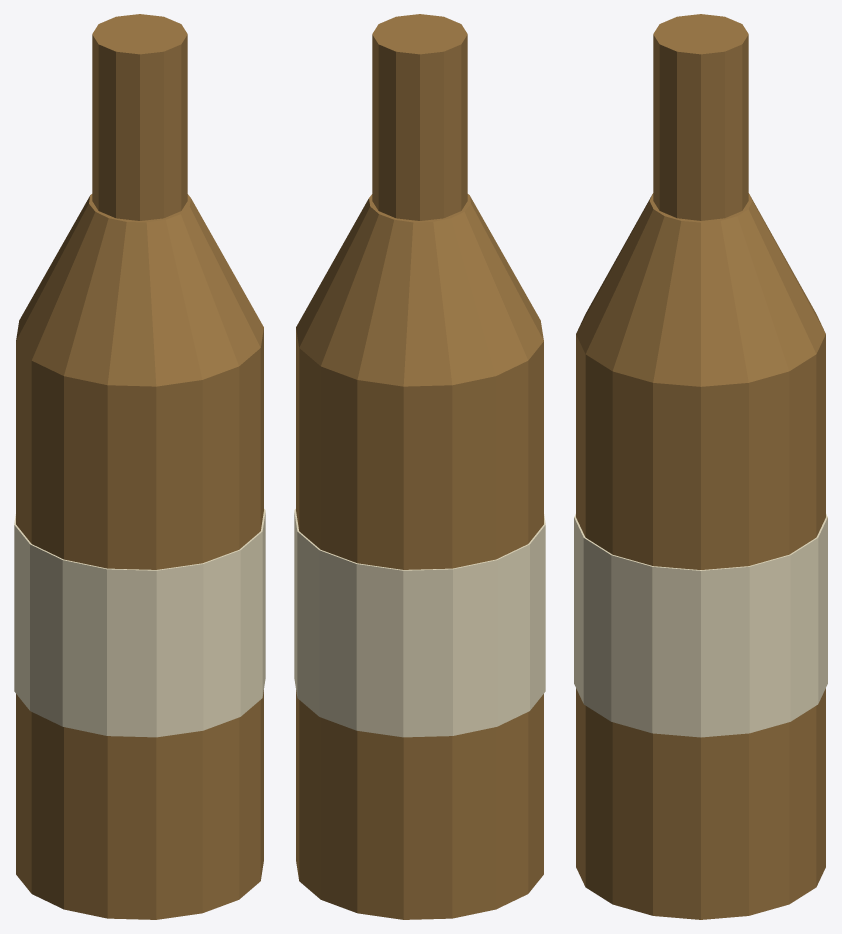
The model's file is Loot_Bottle.fbx.
The picture shows the model from 3 angles, left to right: view 1: azimuth 30°, elevation 25°; view 2: azimuth 150°, elevation 25°; view 3: azimuth 270°, elevation 25°; orthographic projection.
Visible parts, largest first — view 1: Loot_Bottle; view 2: Loot_Bottle; view 3: Loot_Bottle.
Boxes of the visible parts, x1=… form: Loot_Bottle: x1=14, y1=14, x2=265, y2=919; Loot_Bottle: x1=294, y1=14, x2=545, y2=919; Loot_Bottle: x1=574, y1=14, x2=827, y2=919.
Bounding box in the file's own units: 0.069 × 0.25 × 0.069.
